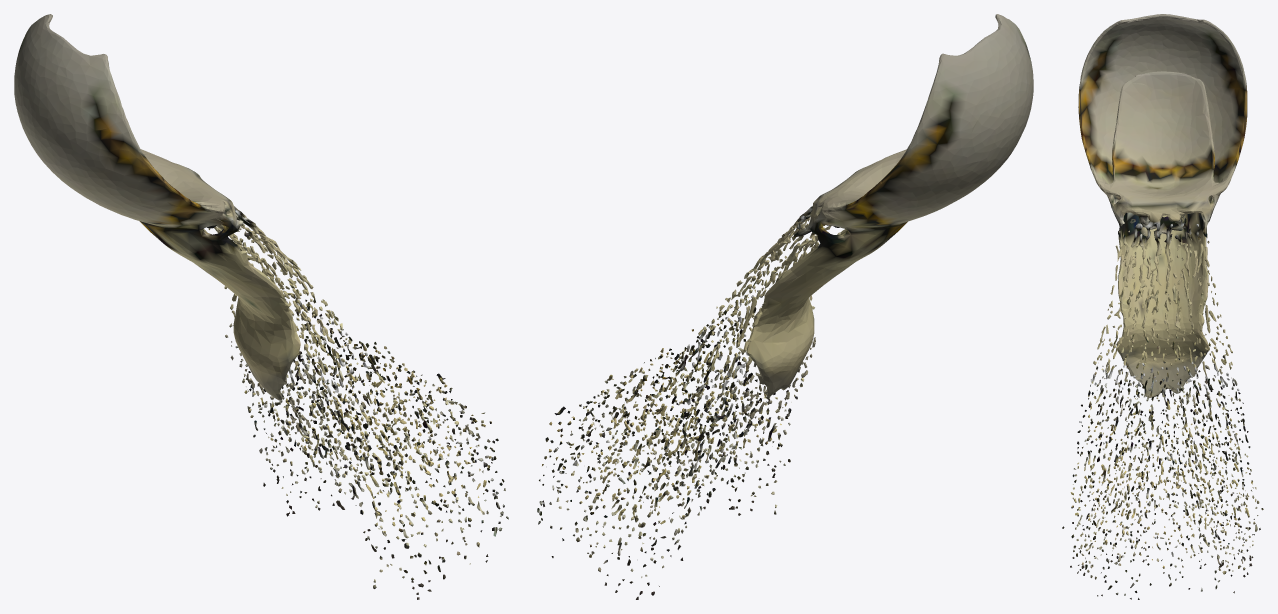
File: moonGhost.glb
3 renders of one model, left to right at view 1: azimuth 30°, elevation 25°; view 2: azimuth 150°, elevation 25°; view 3: azimuth 270°, elevation 25°, orthographic. The views are drawn at different scales.
Parts seen in each view (by area): view 1: world; view 2: world; view 3: world.
Part boxes in pixels (x1=…): world: x1=14, y1=14, x2=508, y2=599; world: x1=537, y1=14, x2=1033, y2=599; world: x1=1062, y1=14, x2=1263, y2=599.
Size of the model in its own units: 0.8182 by 1 by 0.4102.
